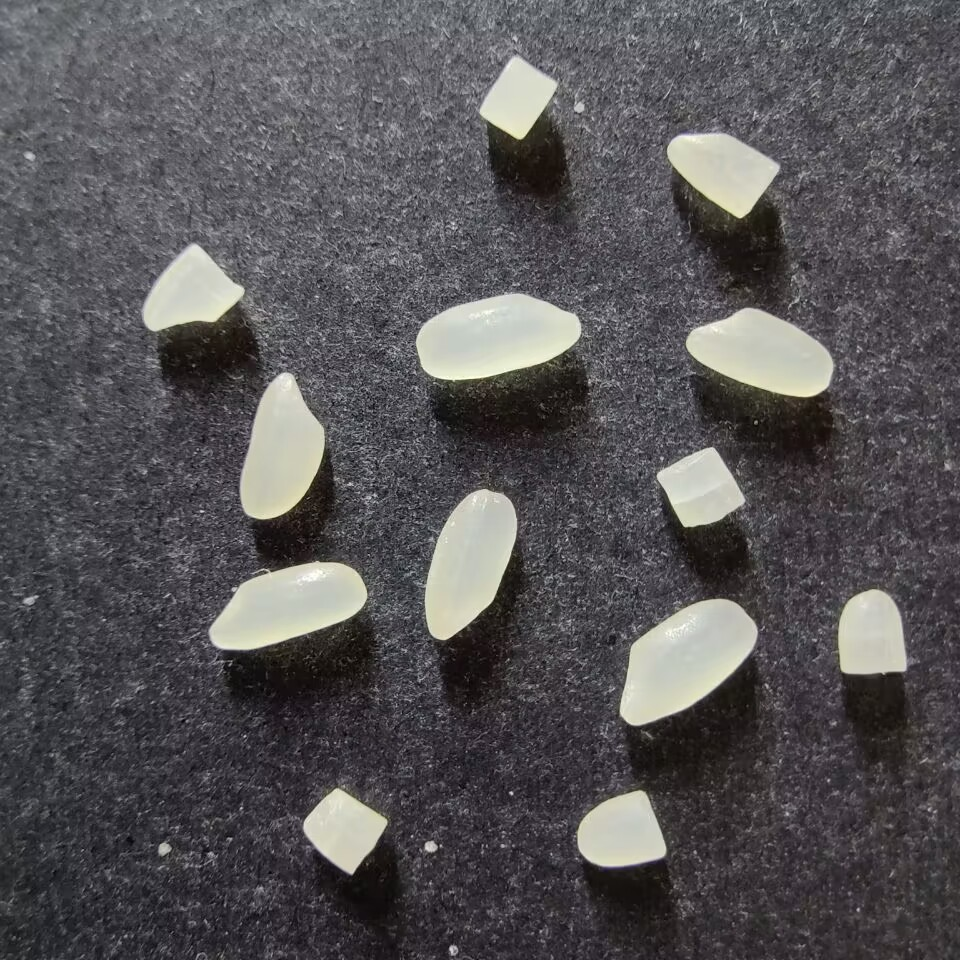broken: (666, 131, 781, 219), (141, 244, 244, 331), (301, 788, 388, 875), (656, 446, 745, 527), (575, 790, 667, 867), (477, 55, 558, 139), (837, 589, 908, 676)
rice: (618, 598, 758, 726), (415, 292, 582, 380), (423, 489, 518, 642), (208, 561, 367, 651), (684, 307, 833, 397), (239, 371, 325, 520)
